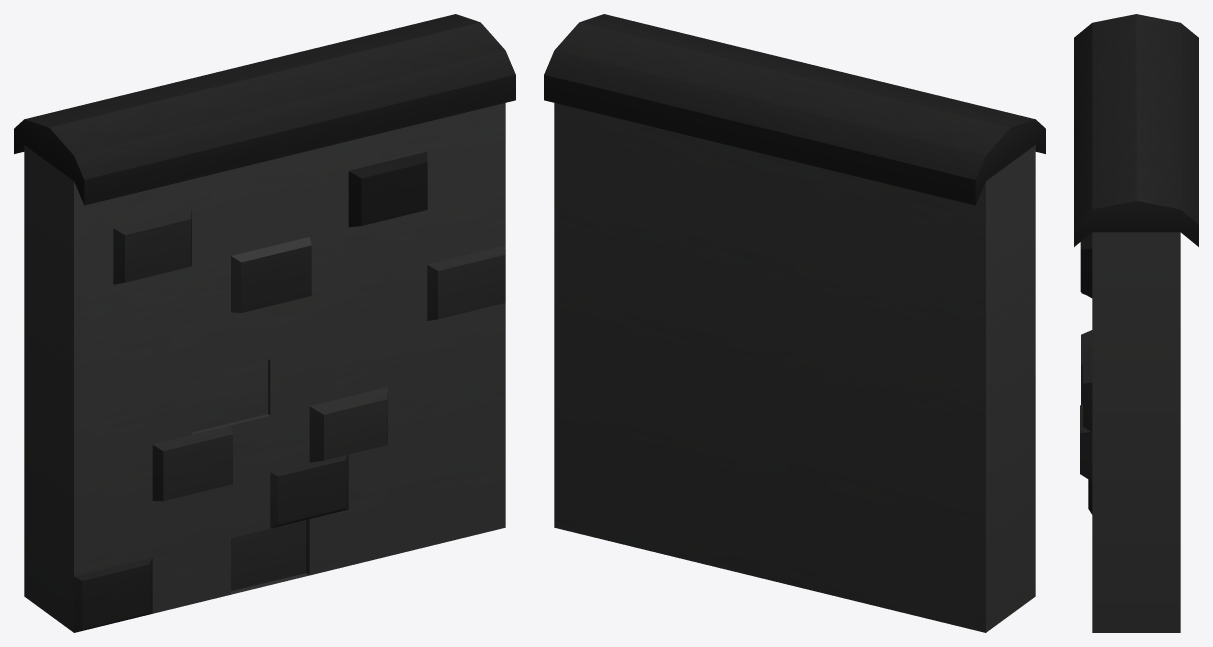
File: darkBrickWall.fbx
3 views of the same model, side by side, from view 1: azimuth 30°, elevation 25°; view 2: azimuth 150°, elevation 25°; view 3: azimuth 270°, elevation 25° (orthographic). The views are drawn at different scales.
Visible parts, largest first — view 1: StoneWall; view 2: StoneWall; view 3: StoneWall.
Part boxes in pixels (left/top/right/bottom): StoneWall: left=14, top=14, right=515, bottom=632; StoneWall: left=544, top=14, right=1045, bottom=632; StoneWall: left=1074, top=14, right=1198, bottom=632.
Size of the model in its own units: 100 by 28.2 by 108.
